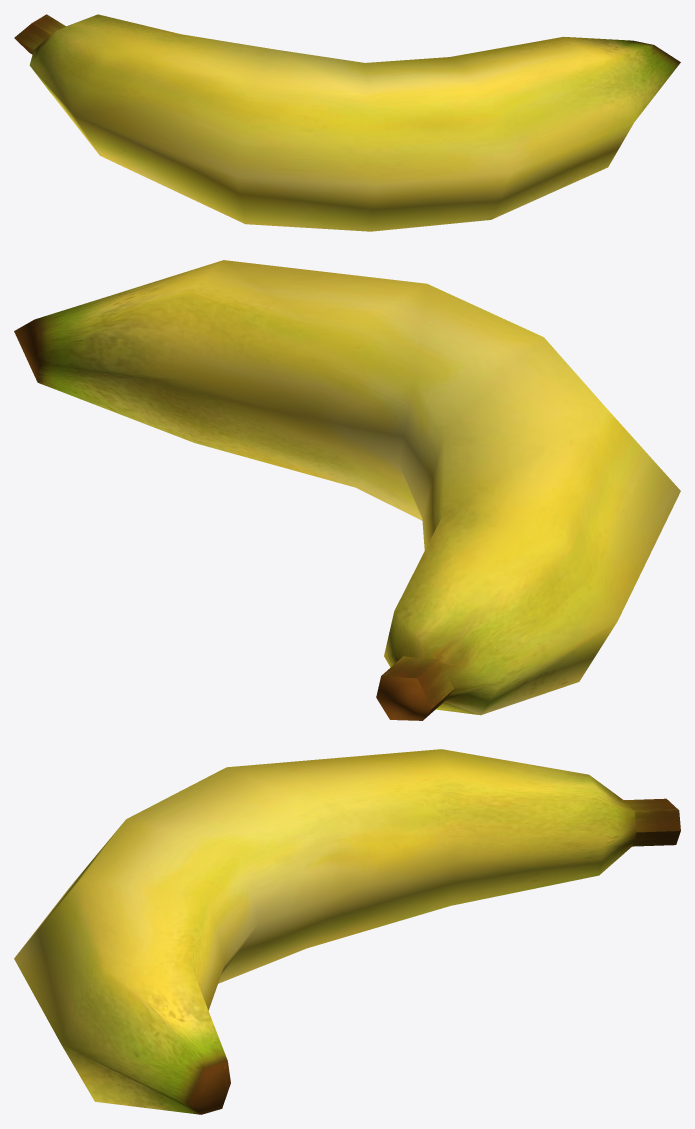
Rendered from platano.glb.
3 renders of one model, top to bottom at view 1: azimuth 30°, elevation 25°; view 2: azimuth 150°, elevation 25°; view 3: azimuth 270°, elevation 25°, orthographic. The views are drawn at different scales.
Parts seen in each view (by area): view 1: platano; view 2: platano; view 3: platano.
Part boxes in pixels (left/top/right/bottom): platano: left=14, top=14, right=680, bottom=231; platano: left=14, top=260, right=680, bottom=720; platano: left=14, top=749, right=680, bottom=1114.
Bounding box in the file's own units: 0.2236 × 0.0526 × 0.1991.
Materials: 1 (1 with a texture image).
